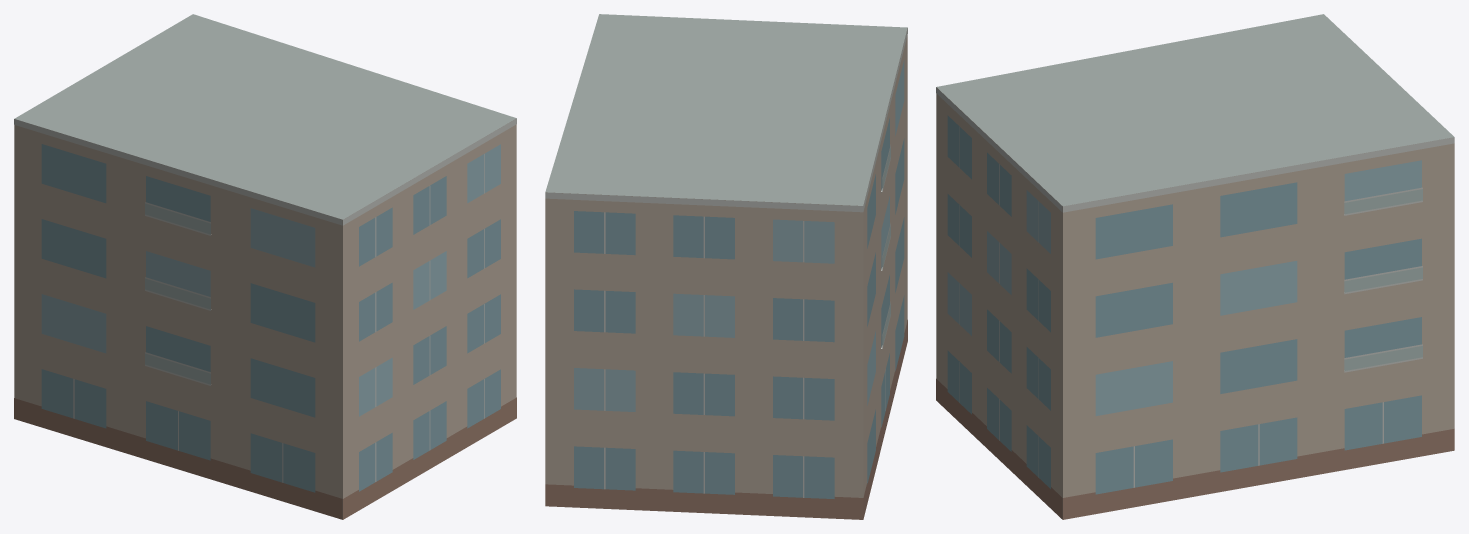
File: survey-upis-32910738.glb
3 views of the same model, side by side, from view 1: azimuth 30°, elevation 25°; view 2: azimuth 150°, elevation 25°; view 3: azimuth 270°, elevation 25° (orthographic). The views are drawn at different scales.
Parts seen in each view (by area): view 1: survey-upis-32910738.tmp; view 2: survey-upis-32910738.tmp; view 3: survey-upis-32910738.tmp.
Part boxes in pixels (box(x1,y1,x2,y2)): survey-upis-32910738.tmp: box(14, 14, 516, 519); survey-upis-32910738.tmp: box(545, 14, 907, 519); survey-upis-32910738.tmp: box(936, 14, 1454, 519).
Bounding box in the file's own units: 16.07 × 12.2 × 18.3.
